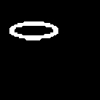chain: (10, 22, 57, 39)
